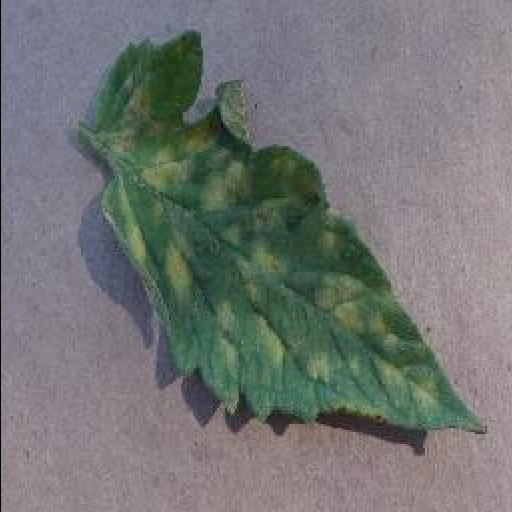disease_tomato: (100, 28, 490, 436)
